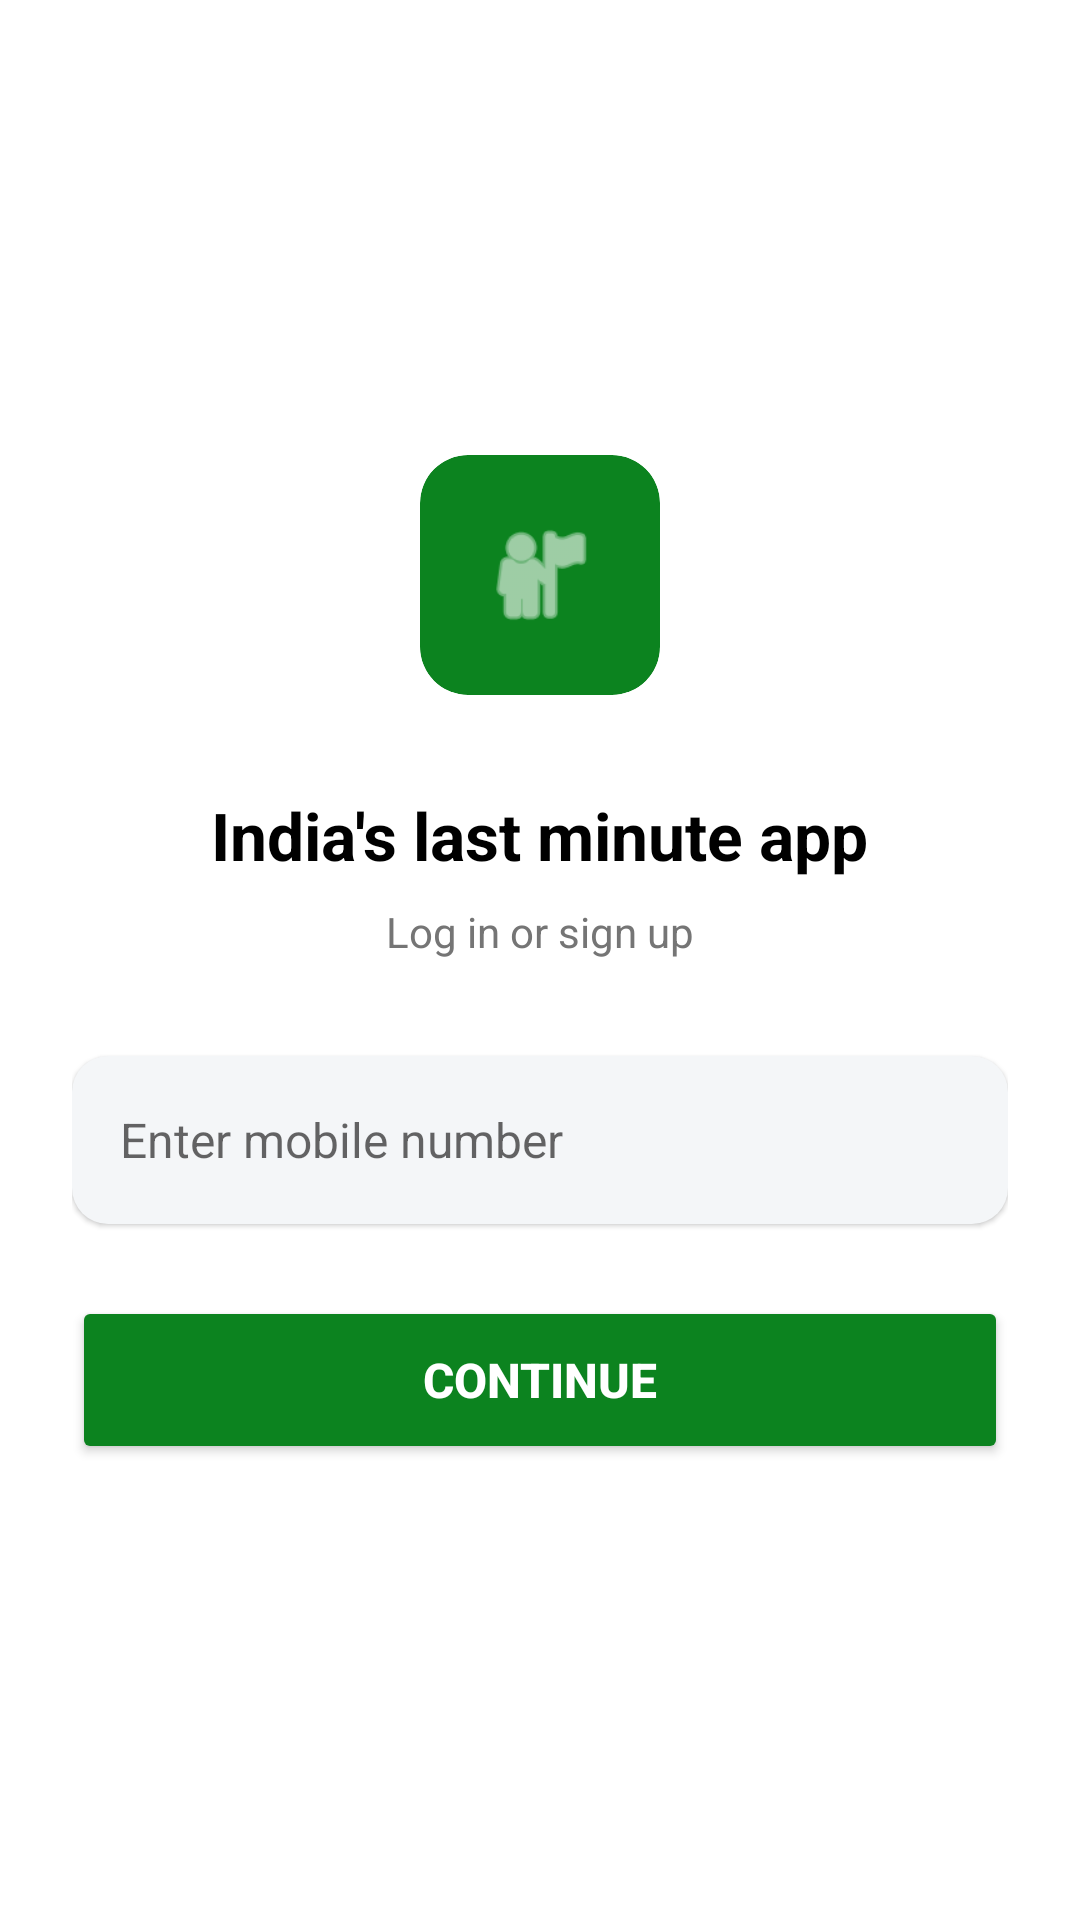

Icon bounding boxes for this 1080×1920 phone screenshot, format detection(x1, y1, x2, y2):
myplaces: detection(496, 530, 586, 620)
